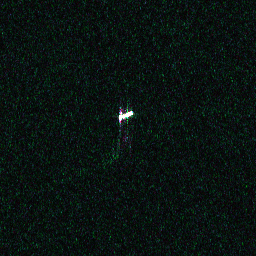ship: (116, 109, 135, 123)
